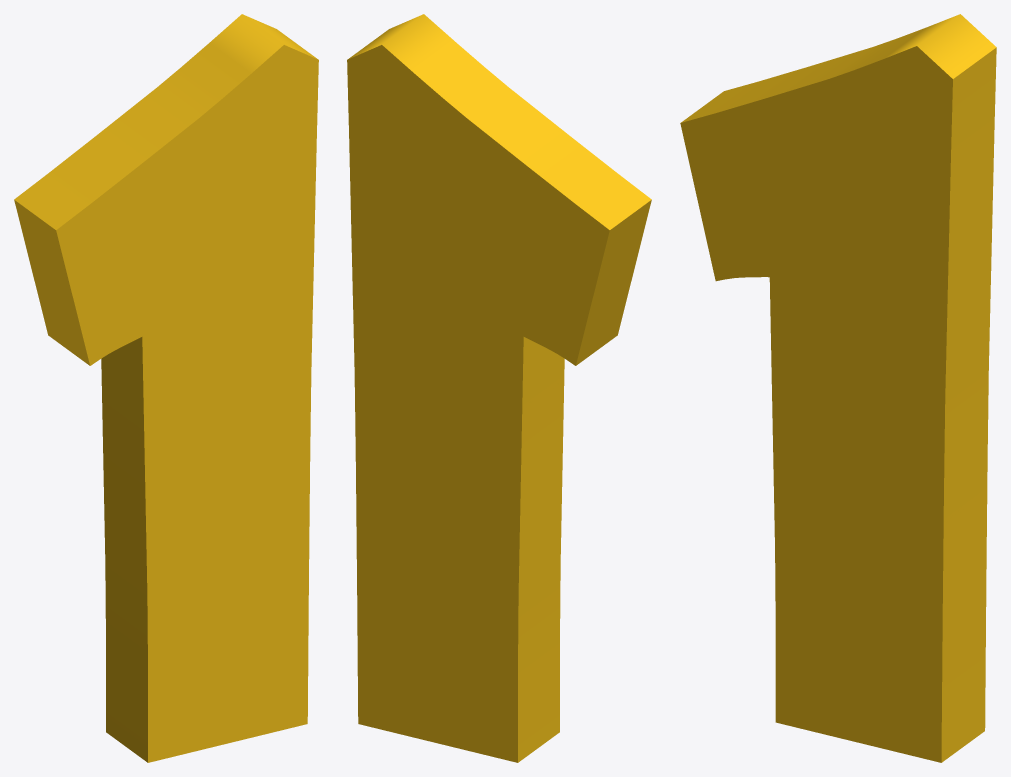
Rendered from Number1.fbx.
3 views of the same model, side by side, from view 1: azimuth 30°, elevation 25°; view 2: azimuth 150°, elevation 25°; view 3: azimuth 330°, elevation 25° (orthographic). The views are drawn at different scales.
Parts seen in each view (by area): view 1: node_id52; view 2: node_id52; view 3: node_id52.
Part boxes in pixels (x1,y1,x2,y2): node_id52: (14, 14, 318, 762); node_id52: (347, 14, 651, 762); node_id52: (680, 14, 996, 762).
Bounding box in the file's own units: 0.1564 × 0.3895 × 0.0433.
